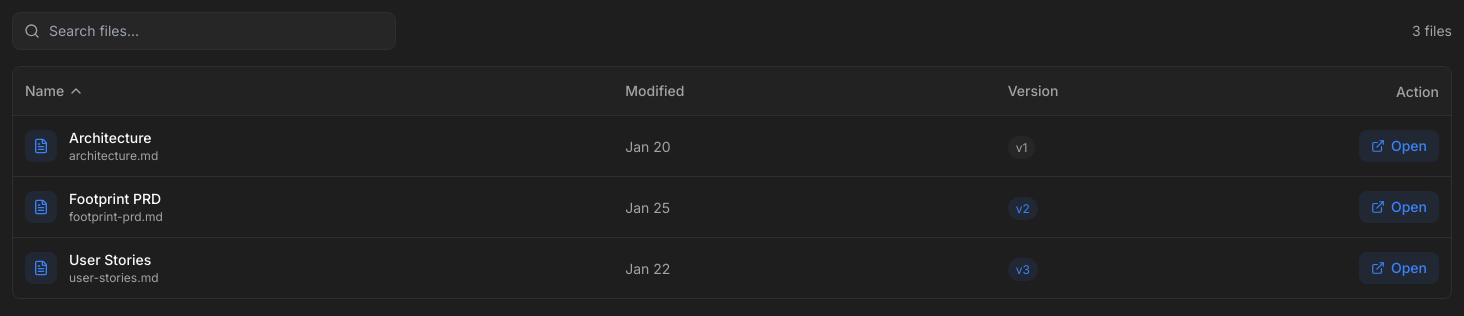
Scenario: FileListView › Search › should search by filename
Type "architecture" into the field with placeholder "Search files..." at {"x": 204, "y": 31}, box [12,12,396,50]
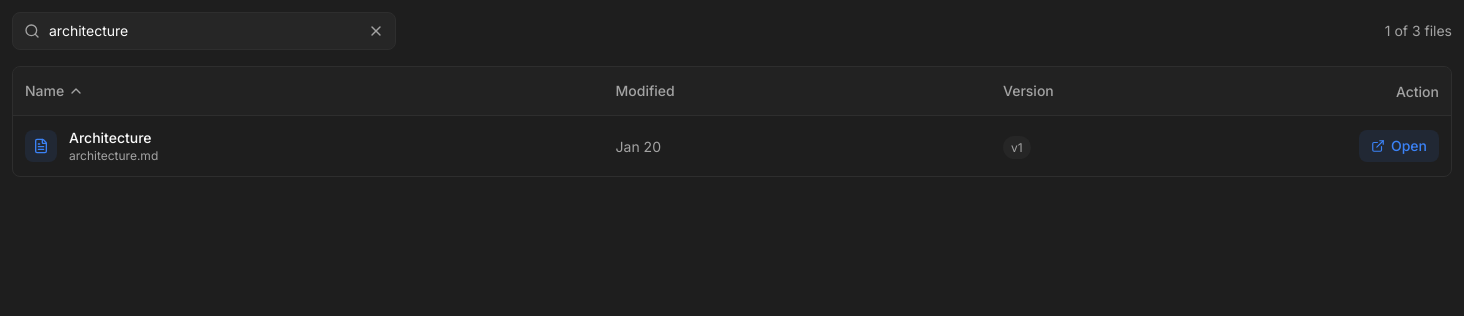
Expected: the text "Architecture" is shown, [69,128,158,148]
Result: the text "Footprint PRD" is gone
